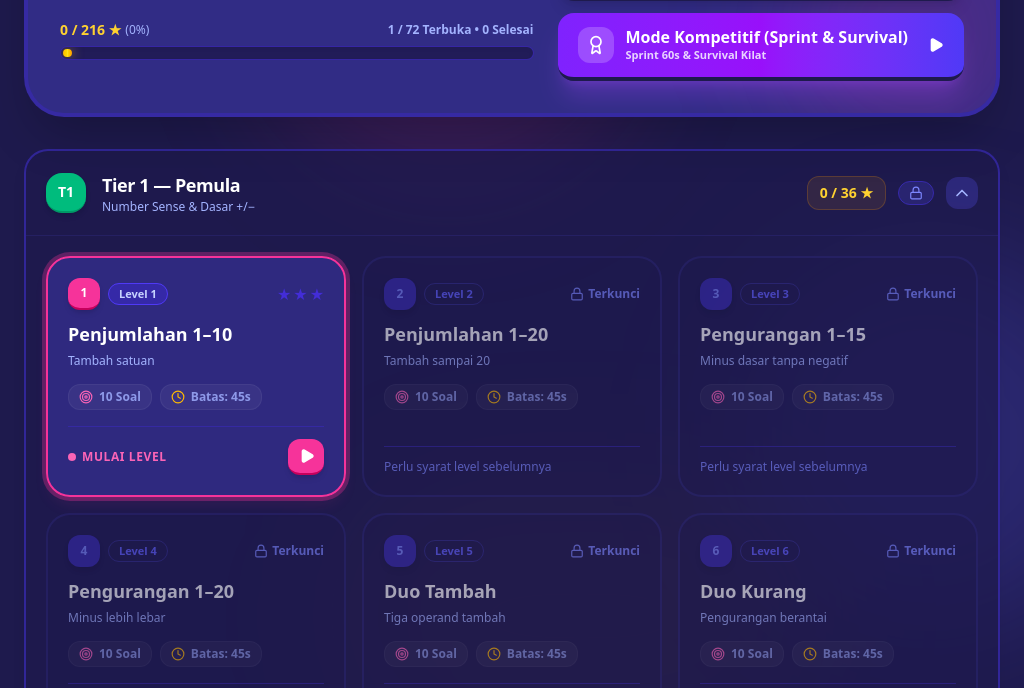
Test: Campaign V2 End-to-End Flow (Spec §2 & §8) › allows advancing to next level via ResultModal after completing a level
This screenshot has width=1024, height=688.
(page scrolled)
Click the button with id "level-card-1". click: point(84, 294)
box: [46, 256, 346, 497]
(page scrolled)
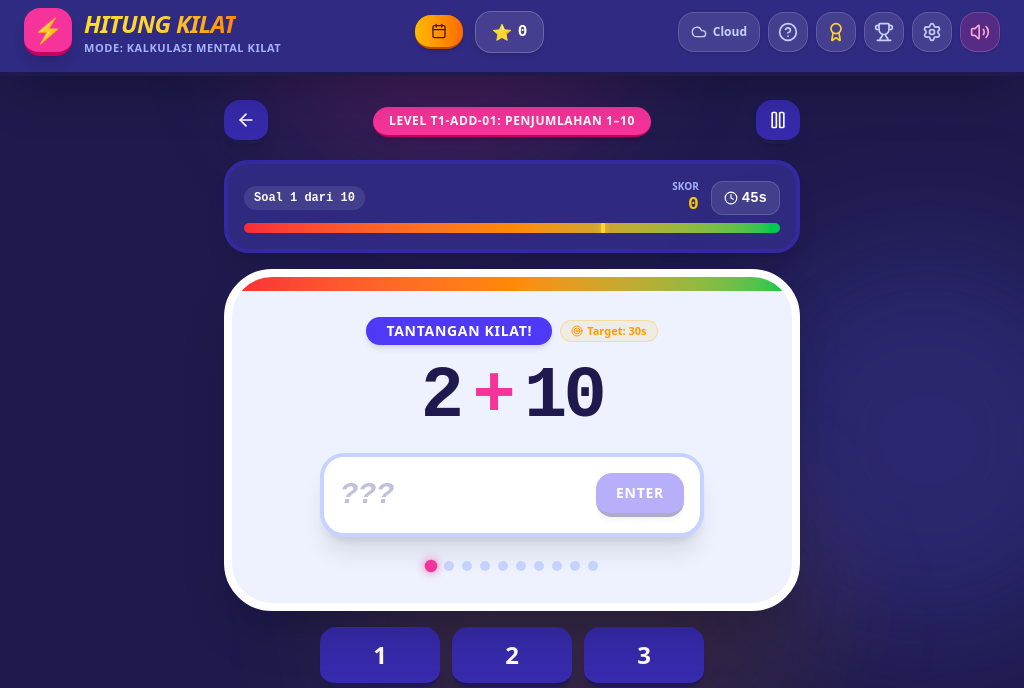
Expected: the button named "kembali ke menu" is shown
Click the button named "kembali ke menu". click: point(246, 122)
box: [224, 100, 268, 144]
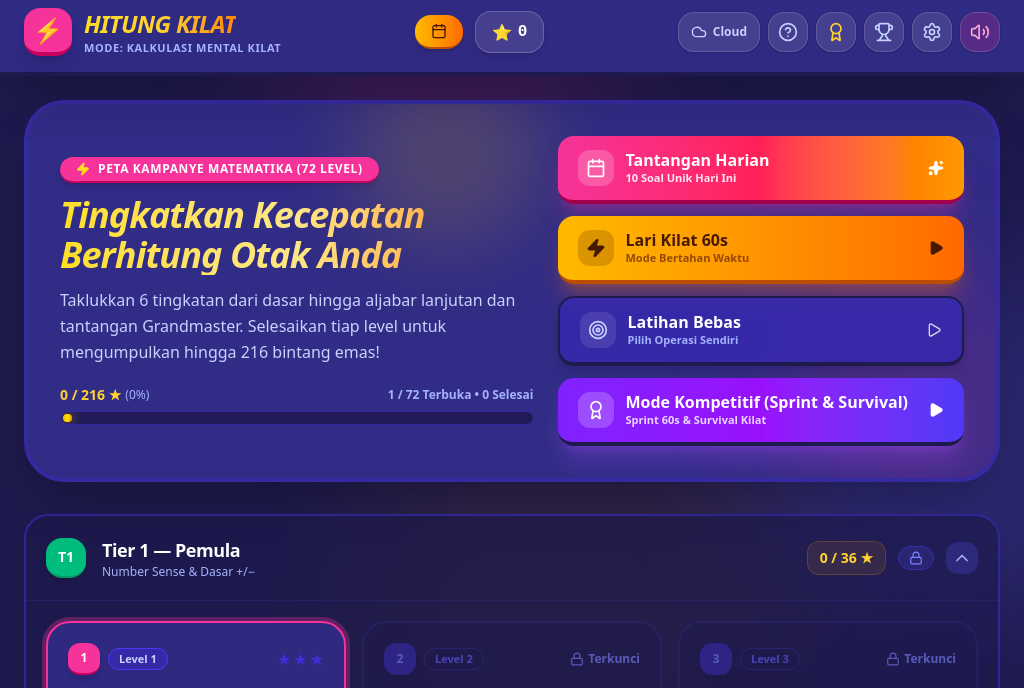
Expected: the text "Peta Kampanye Matematika (72 Level)" is shown, [98, 161, 363, 177]
